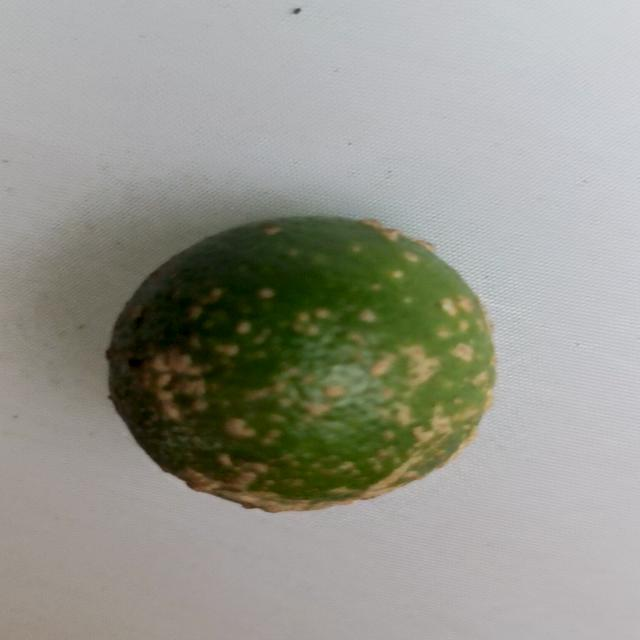scab: (120, 219, 496, 502)
